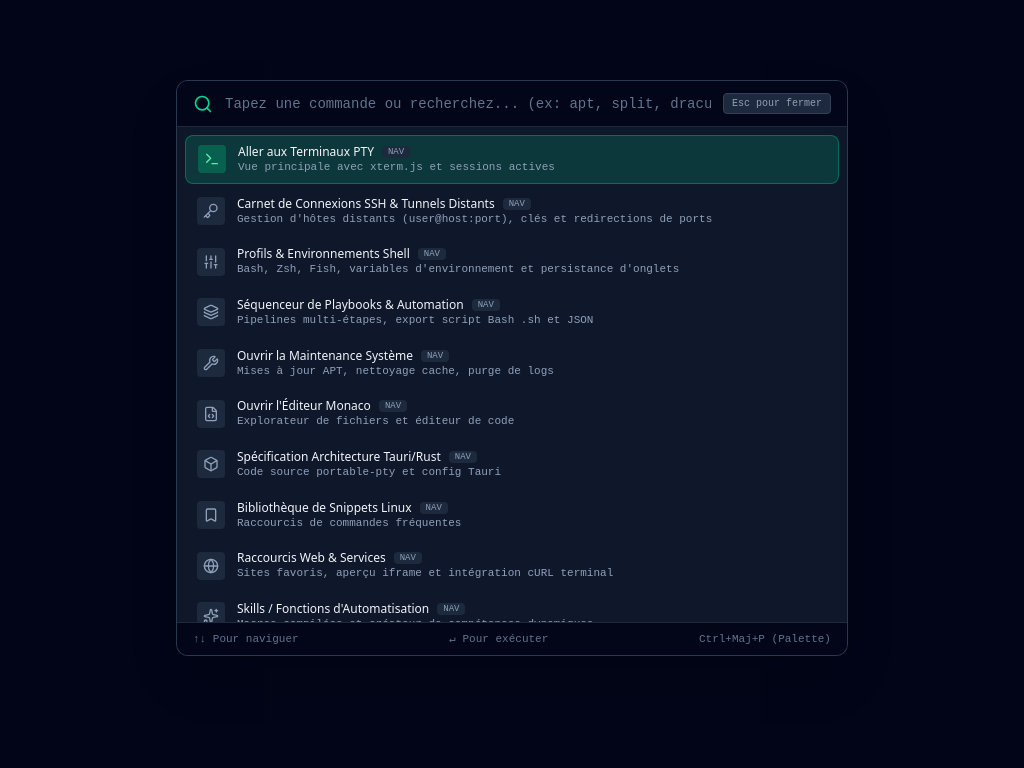
CommandPalette › filtre les actions selon la recherche
Step 1. Replace the text in the field with placeholder "Tapez une commande ou recherchez" with "zsh" → (468, 104), box [225,94,711,114]
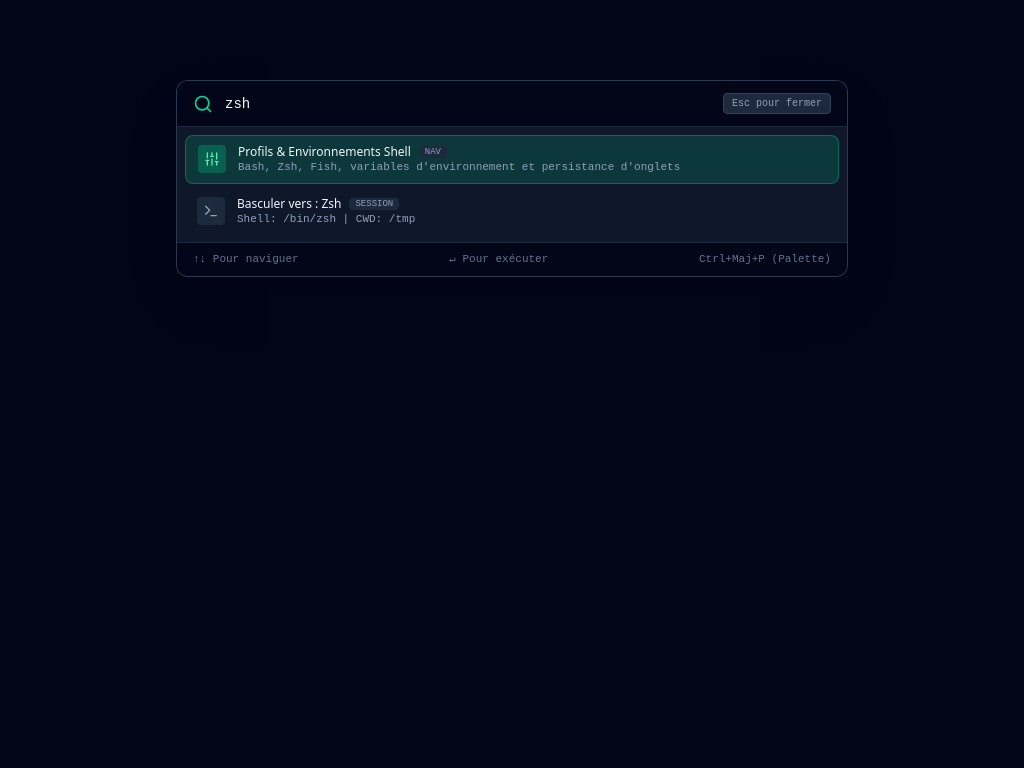
Expected: the text "Basculer vers : Zsh" is shown, [237,196,342,212]
